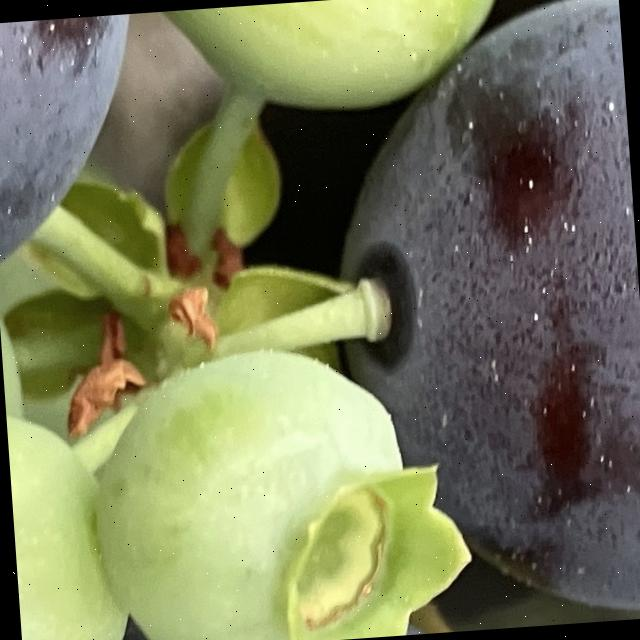Blueberries: (323, 0, 640, 637), (91, 324, 485, 640)
